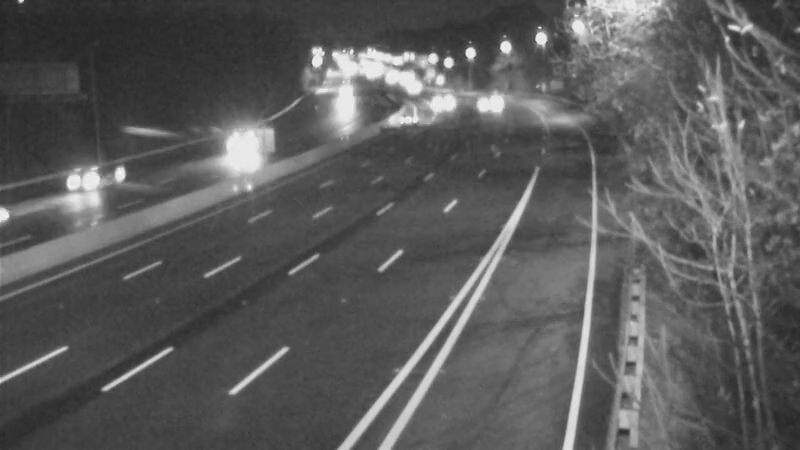vehicle: (39, 141, 119, 221), (200, 111, 280, 191), (1, 173, 64, 253), (424, 67, 474, 117), (454, 75, 504, 125), (381, 89, 431, 139)
